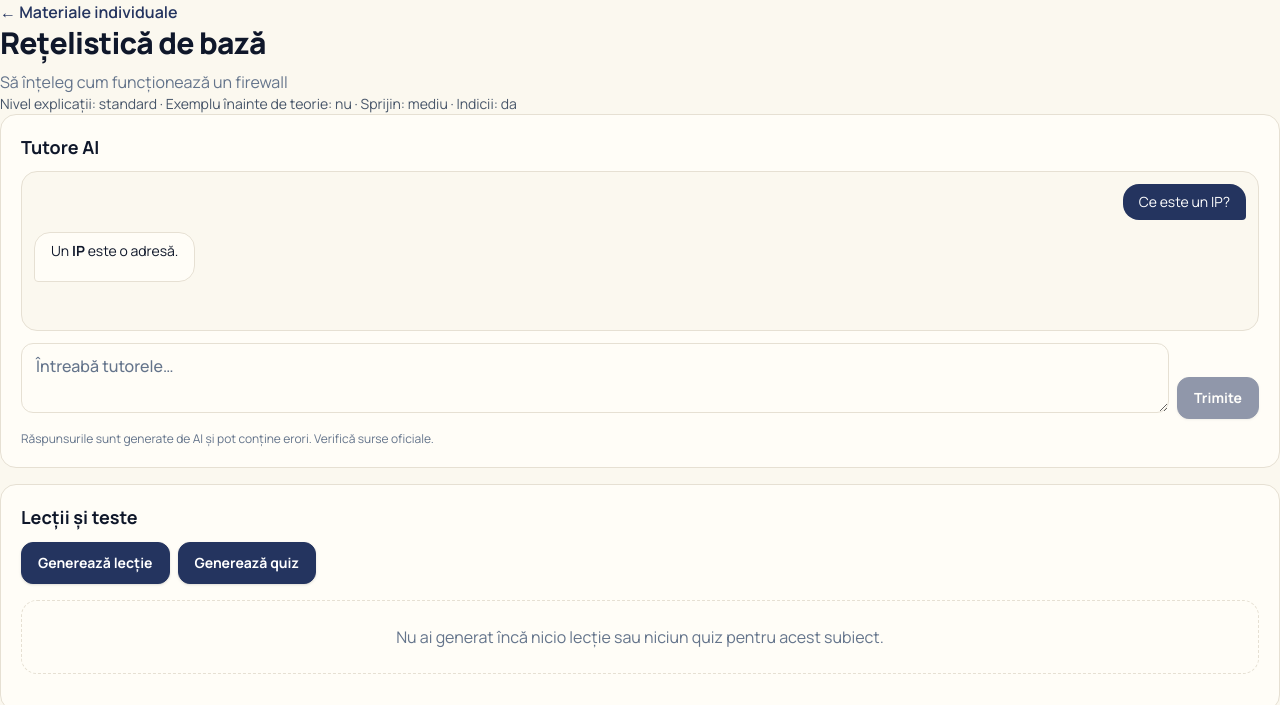
StudentTopicDetailPage › removes the optimistic message and restores the text when the tutor fails
Expected: the text "Ce este un IP?" is shown, [1123,184,1246,220]
Step 1. Type "Dar un port?" into the text box named "Mesajul tău" → (595, 378), box [21,343,1169,413]
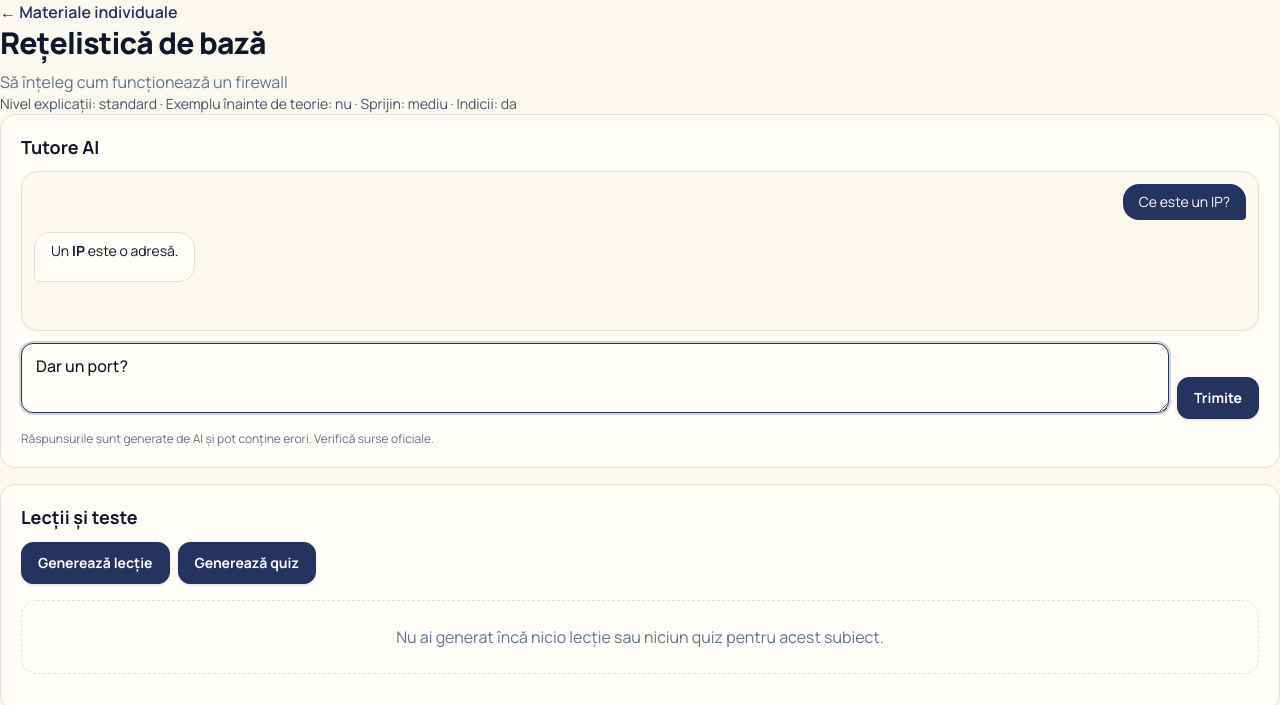
Step 2. Click the button "Trimite" → click(1218, 398), box [1177,377,1259,419]
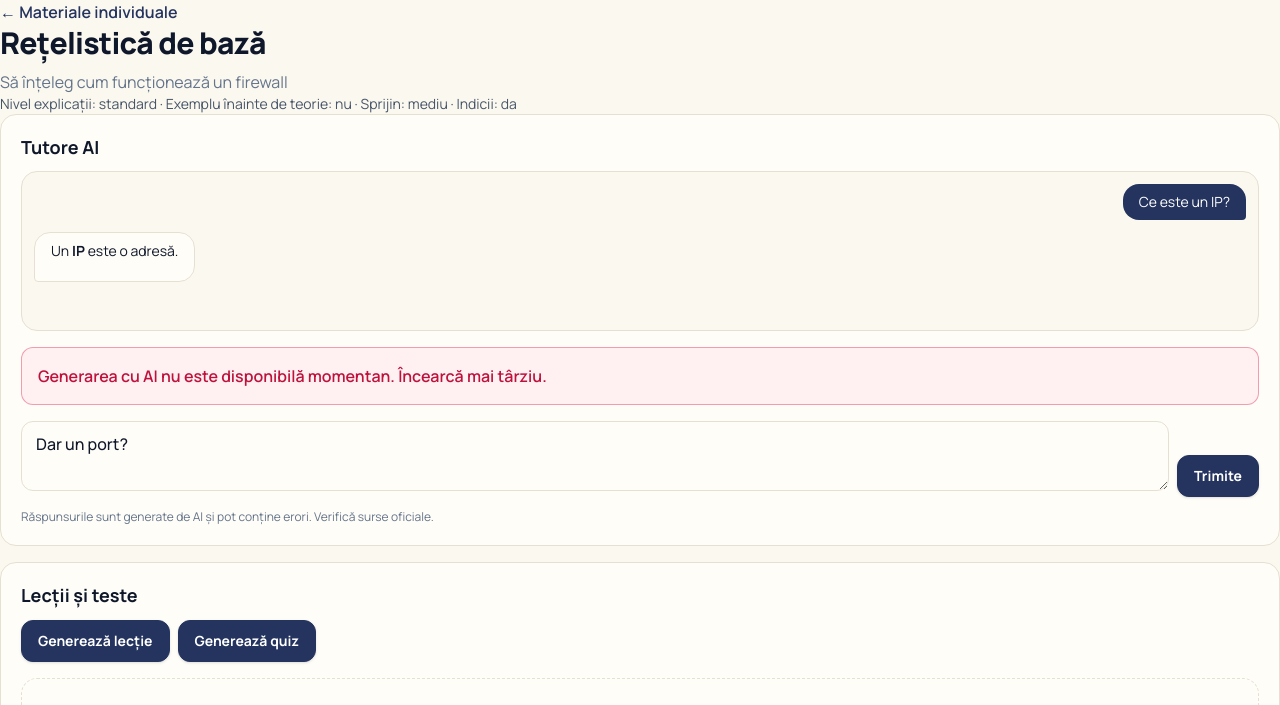
Expected: the text "nu este disponibilă momentan" is shown, [38,365,547,387]
